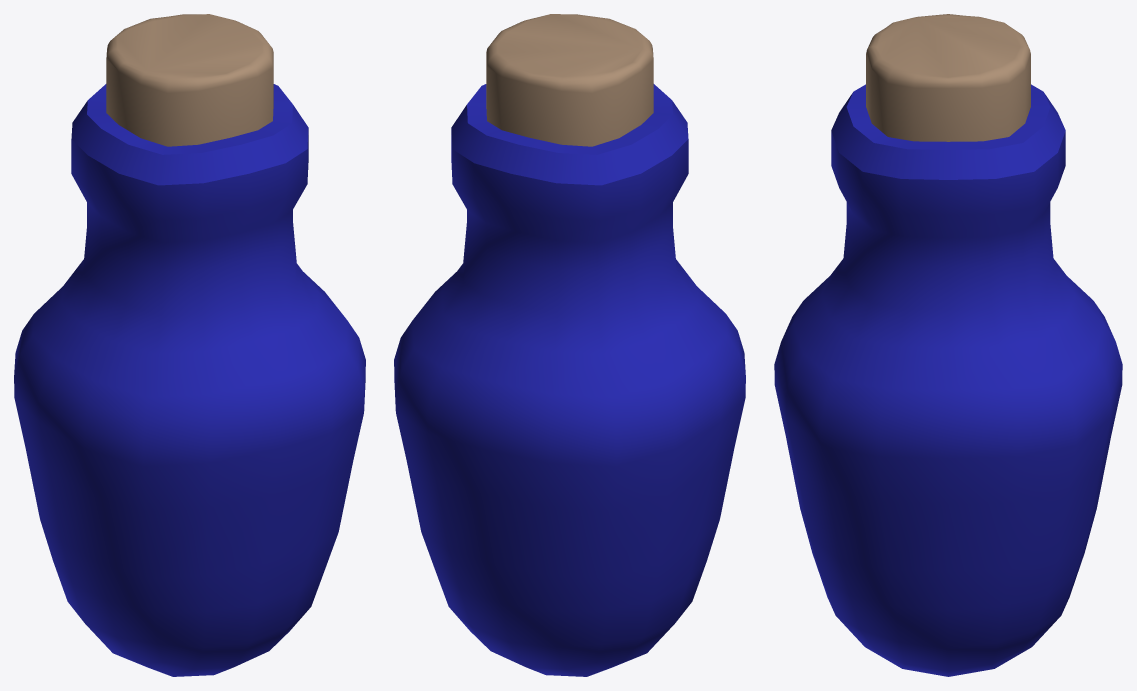
The model's file is HealthPotion.fbx.
3 renders of one model, left to right at view 1: azimuth 30°, elevation 25°; view 2: azimuth 150°, elevation 25°; view 3: azimuth 270°, elevation 25°, orthographic.
Visible parts, largest first — view 1: Cube; view 2: Cube; view 3: Cube.
Part boxes in pixels (x1=…): Cube: x1=14, y1=14, x2=365, y2=676; Cube: x1=394, y1=14, x2=745, y2=676; Cube: x1=774, y1=14, x2=1122, y2=676.
Bounding box in the file's own units: 11.81 × 23.21 × 11.81.
